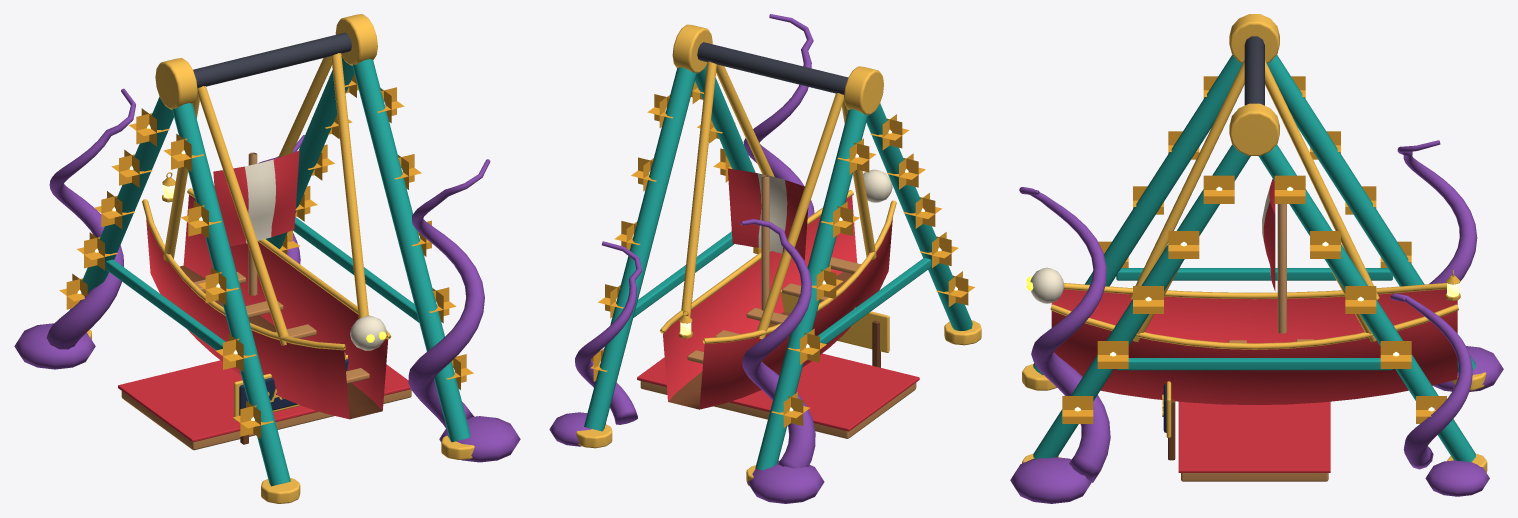
File: cove_swing.glb
The picture shows the model from 3 angles, left to right: view 1: azimuth 30°, elevation 25°; view 2: azimuth 150°, elevation 25°; view 3: azimuth 270°, elevation 25°; orthographic projection. The views are drawn at different scales.
Visible parts, largest first — view 1: Base, Boat; view 2: Base, Boat; view 3: Base, Boat.
Part boxes in pixels (x1,y1,x2,y2): Base: (14, 14, 520, 503); Boat: (142, 53, 391, 419); Base: (549, 14, 981, 503); Boat: (660, 61, 896, 409); Base: (1010, 14, 1503, 503); Boat: (1026, 60, 1460, 404).
Bounding box in the file's own units: 7.5 × 9.04 × 10.7.
